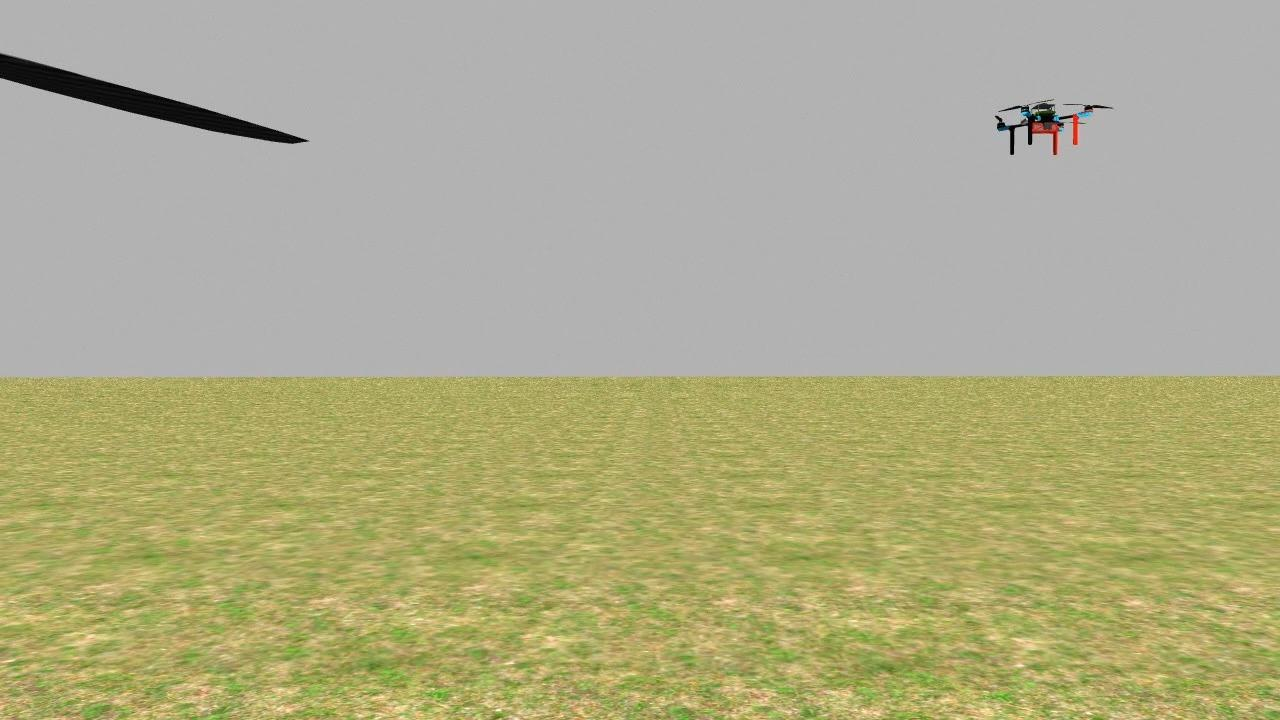UAV: (969, 76, 1115, 166)
